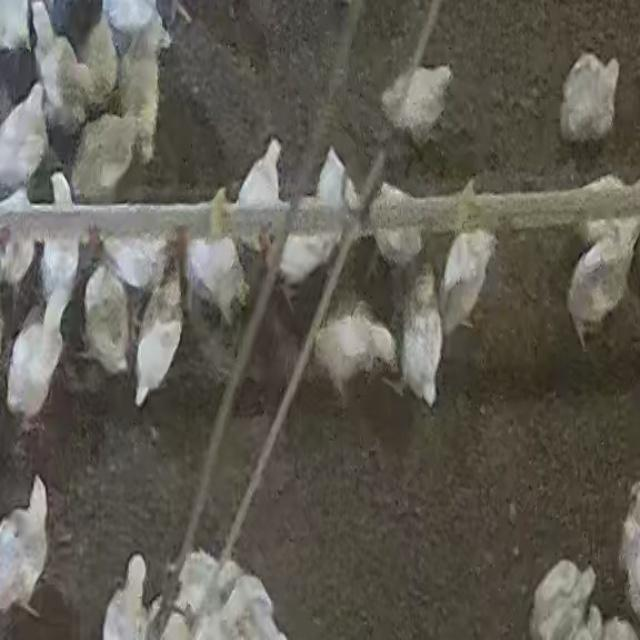chicken: (277, 144, 347, 292), (134, 265, 185, 406), (32, 4, 88, 131), (565, 233, 636, 333), (5, 300, 60, 428), (313, 310, 399, 391), (2, 477, 50, 619), (399, 261, 445, 406), (74, 111, 146, 199), (123, 14, 166, 159), (184, 234, 247, 330), (439, 230, 497, 334), (558, 52, 622, 145), (384, 59, 456, 141), (81, 262, 130, 380), (161, 551, 227, 638), (209, 571, 292, 639), (235, 136, 283, 252), (529, 556, 595, 640), (1, 85, 48, 189), (41, 169, 76, 304), (101, 552, 153, 640), (77, 17, 122, 113), (0, 190, 39, 300), (576, 179, 640, 245), (375, 184, 421, 271), (104, 234, 168, 292), (99, 0, 174, 45), (315, 144, 351, 211)
